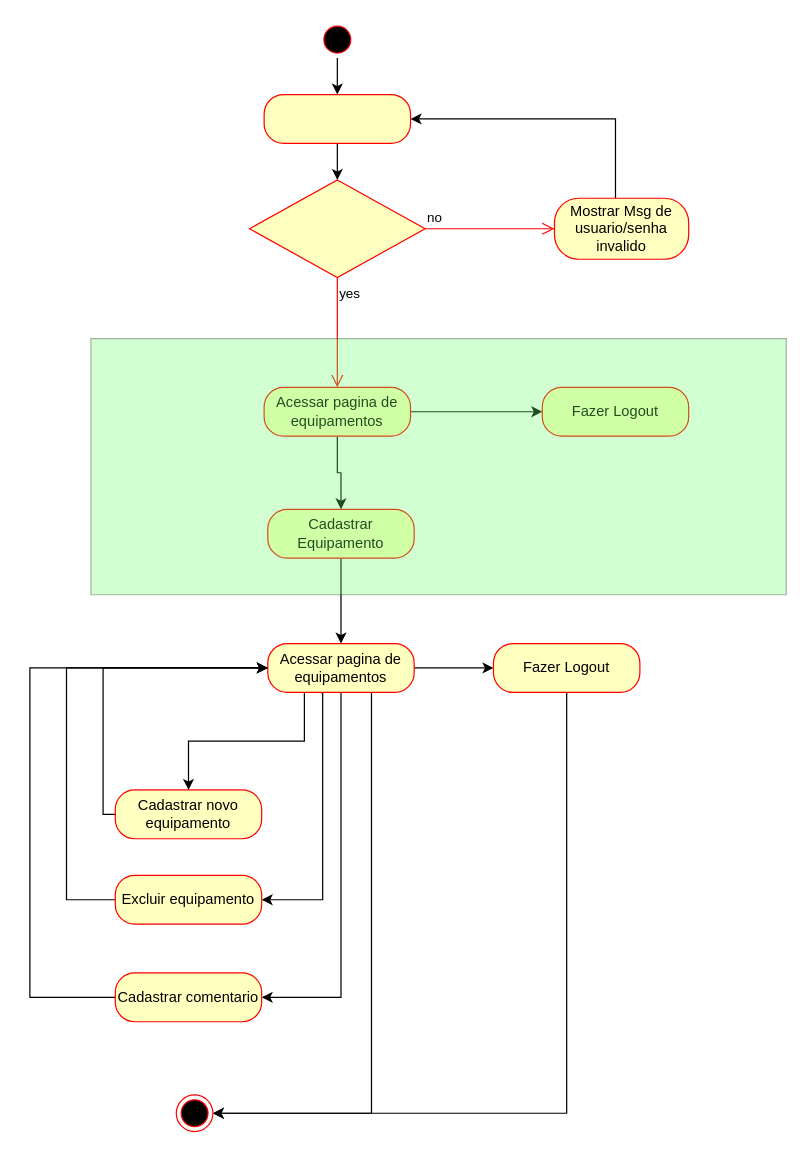
Some shapes in this 808 by 1153 pixel diagram are drawn without their labels. The centre of each missing label's shape, as x and y in pixels:
"Efetuar Login" belongs at (x=337, y=118).
"Primeiro acesso (sem equipamento cadastrado)" belongs at (x=438, y=466).
"Usuário válido?" belongs at (x=336, y=228).
